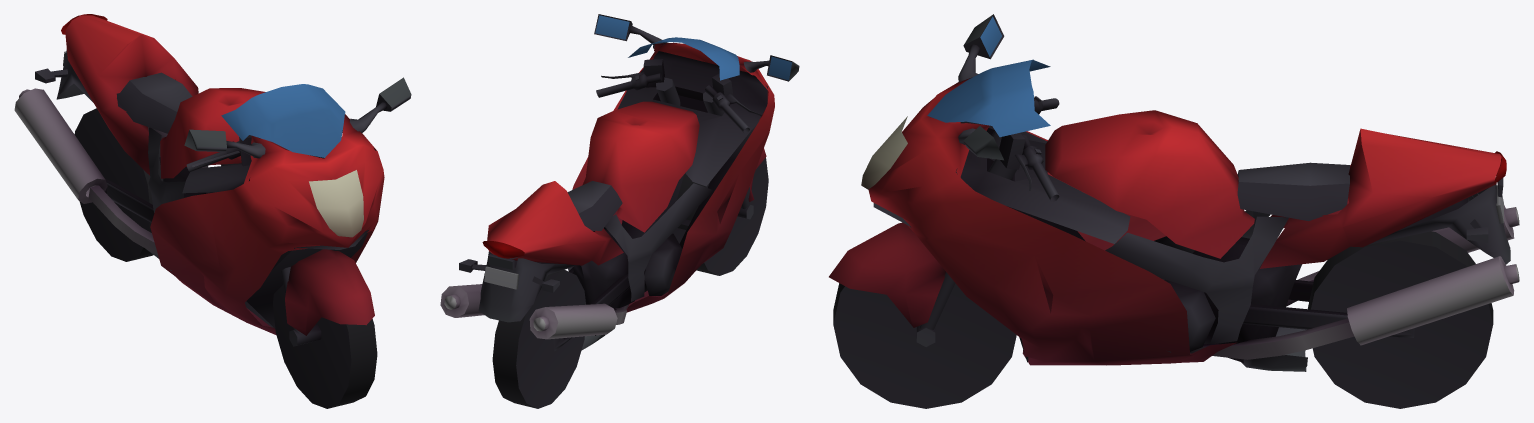
3 views of the same model, side by side, from view 1: azimuth 30°, elevation 25°; view 2: azimuth 150°, elevation 25°; view 3: azimuth 270°, elevation 25° (orthographic). The views are drawn at different scales.
Visible parts, largest first — view 1: color.096; view 2: color.096; view 3: color.096.
Boxes of the visible parts, box(x1,y1,x2,y2) form: color.096: box(14, 14, 411, 408); color.096: box(440, 14, 799, 408); color.096: box(829, 14, 1519, 408).
Bounding box in the file's own units: 0.2125 × 0.2652 × 0.5.
